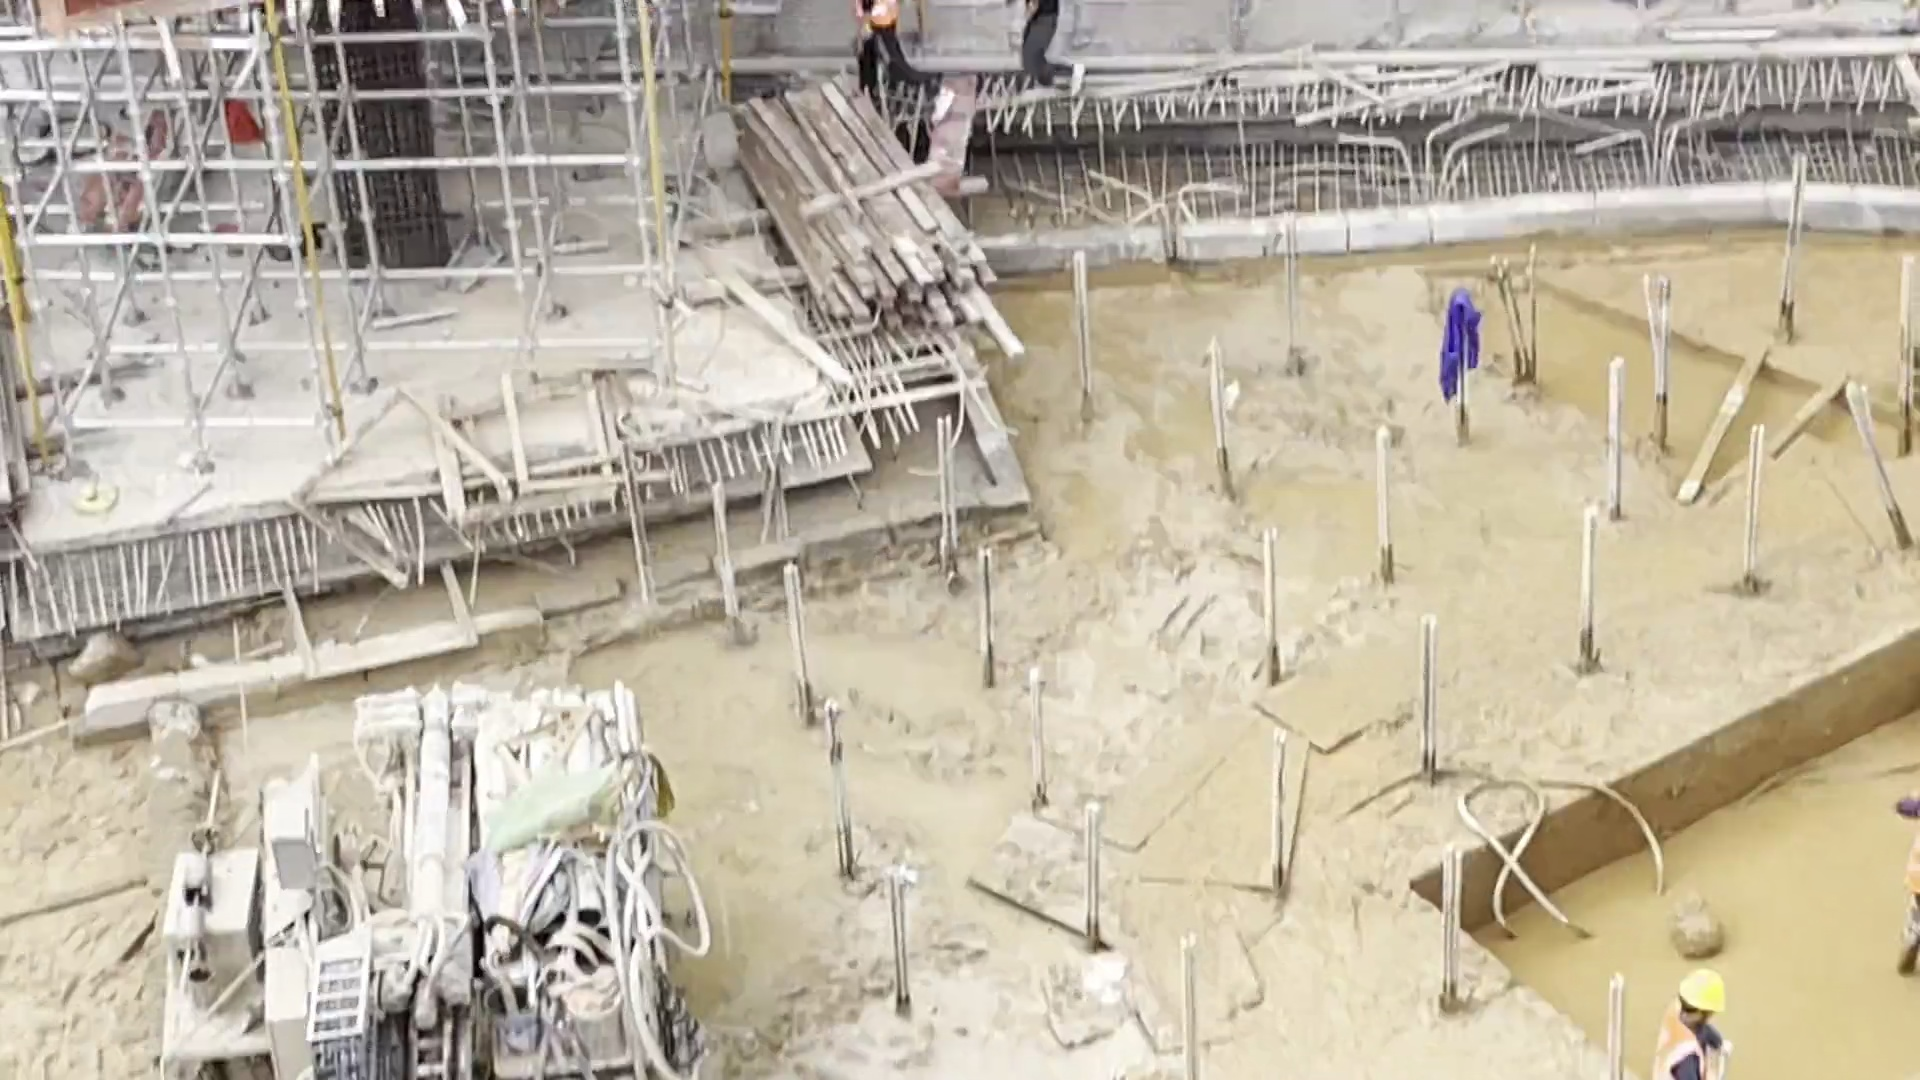helmet: (1680, 966, 1726, 1013)
person: (849, 1, 928, 105), (1005, 1, 1075, 90)
vest: (854, 1, 905, 27)
wood: (735, 74, 1028, 363)
